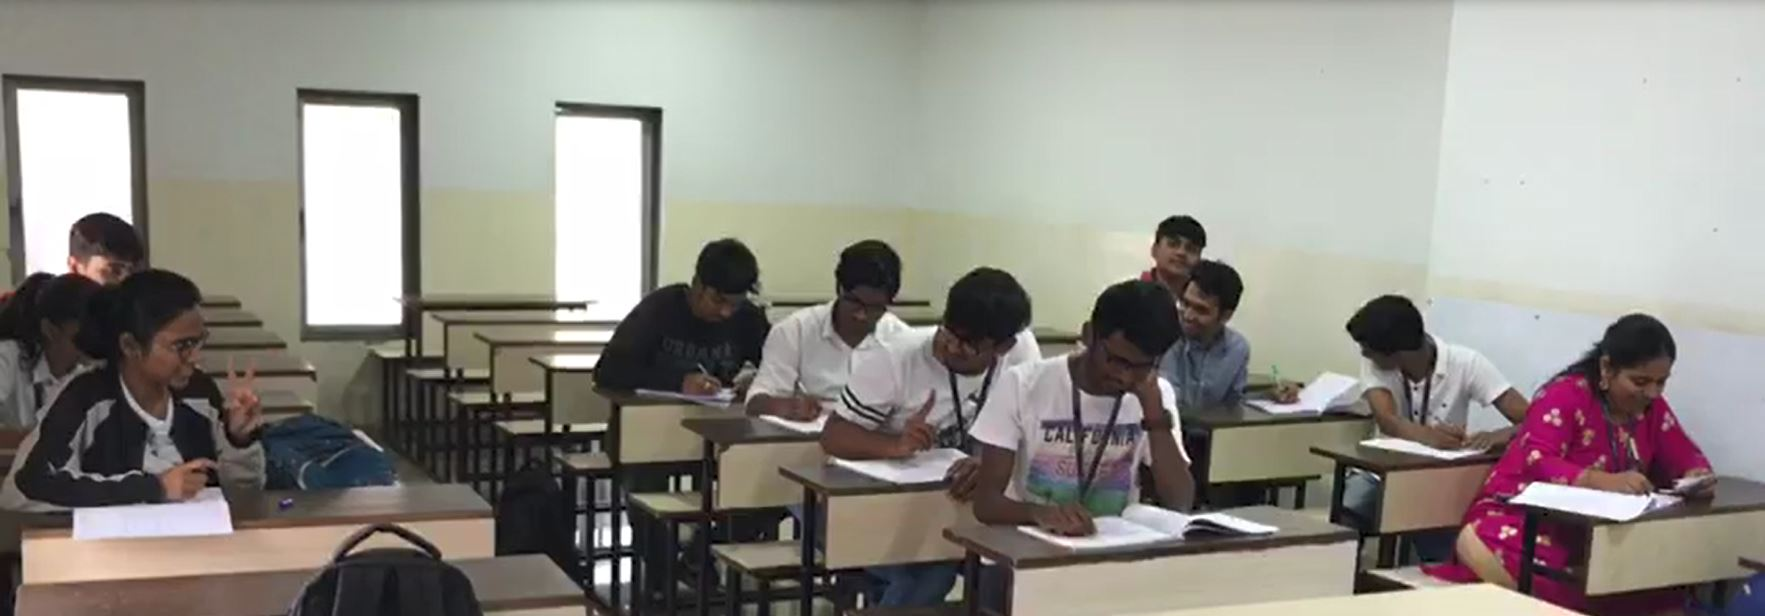gesture: (214, 353, 275, 469), (880, 385, 956, 466)
student: (981, 287, 1228, 542), (1490, 314, 1748, 536), (599, 224, 805, 403), (768, 230, 923, 419), (60, 214, 172, 311), (1132, 204, 1220, 286)
studentcopying: (43, 275, 281, 517), (809, 279, 1074, 473), (1326, 290, 1543, 475), (1168, 275, 1306, 457)
